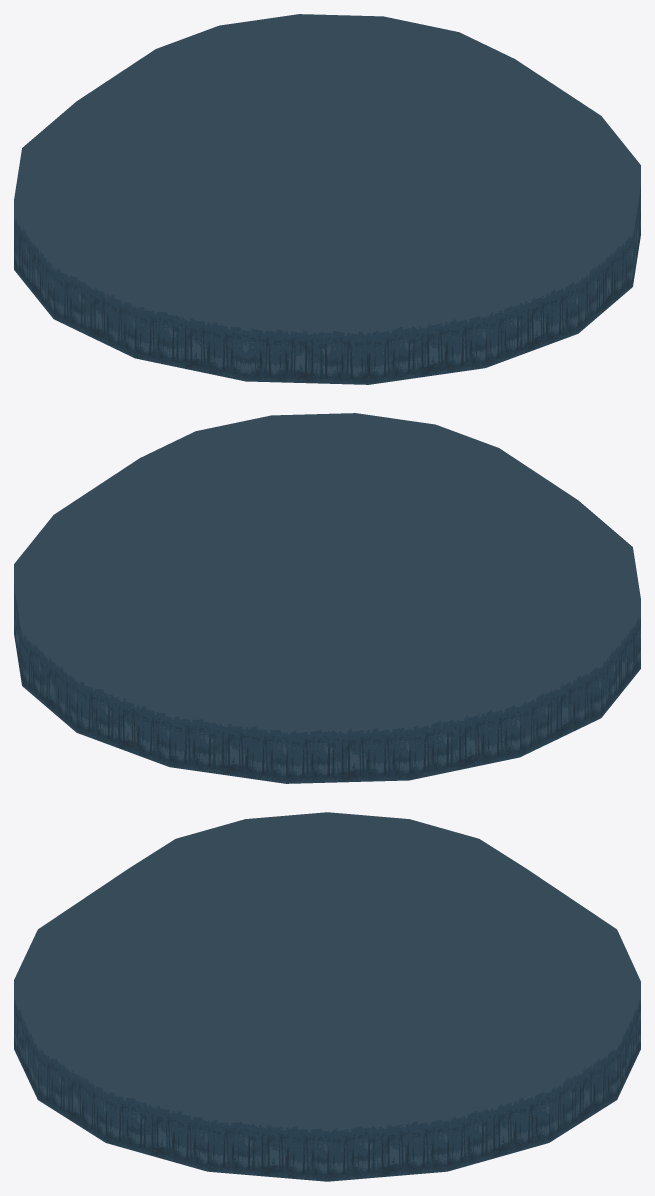
3 renders of one model, top to bottom at view 1: azimuth 30°, elevation 25°; view 2: azimuth 150°, elevation 25°; view 3: azimuth 270°, elevation 25°, orthographic.
Bounding box in the file's own units: 79753 × 31976 × 79754.
26 materials, 26 textured.
